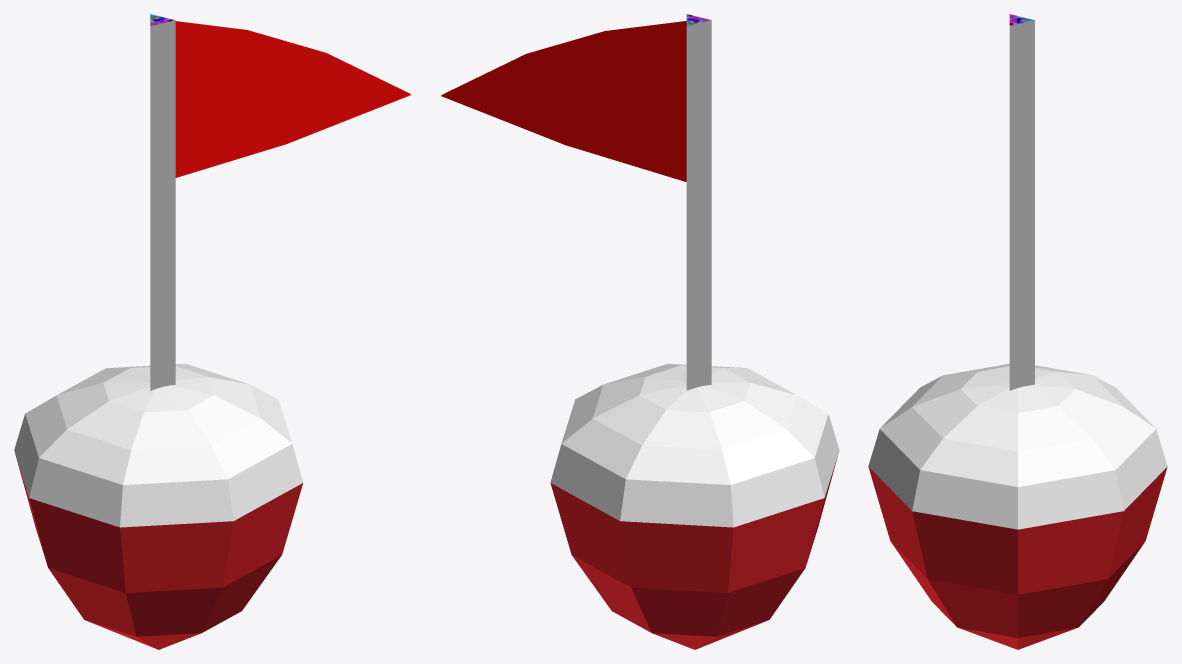
File: uki.fbx
The picture shows the model from 3 angles, left to right: view 1: azimuth 30°, elevation 25°; view 2: azimuth 150°, elevation 25°; view 3: azimuth 270°, elevation 25°; orthographic projection.
Visible parts, largest first — view 1: Cube; view 2: Cube; view 3: Cube.
Boxes of the visible parts, x1,y1,x2,y2 form: Cube: (14, 14, 411, 649); Cube: (441, 14, 839, 649); Cube: (868, 14, 1167, 649).
Size of the model in its own units: 295 by 464 by 200.
